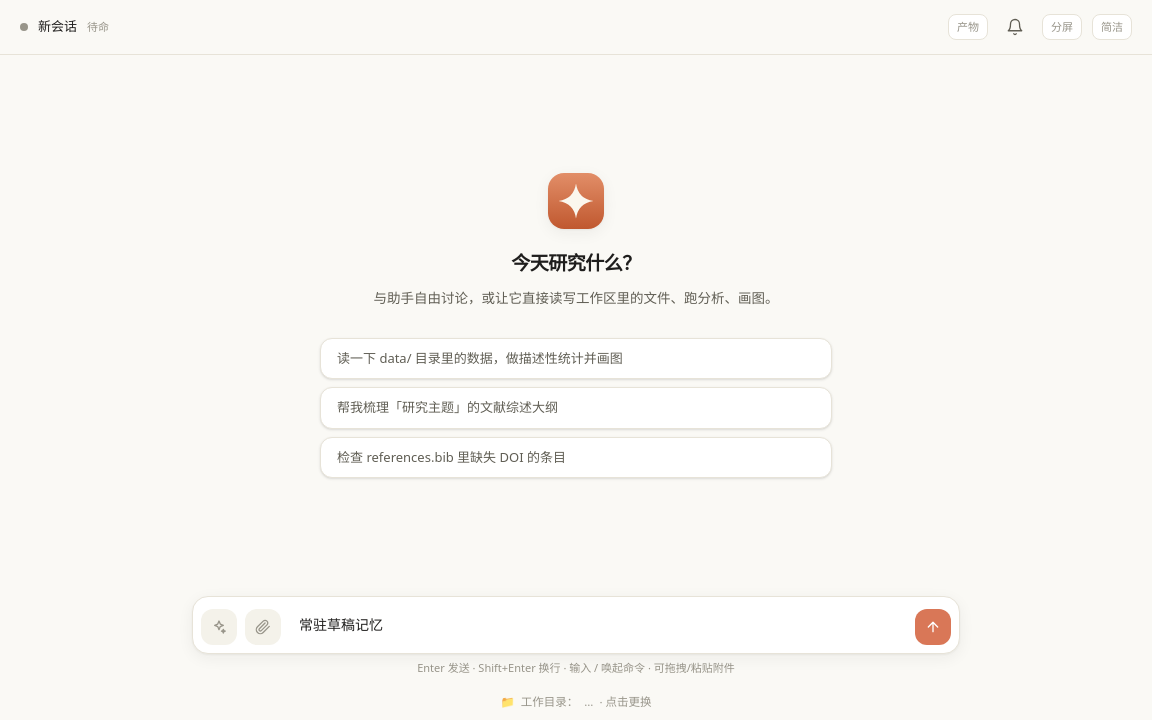
it: U-11 检查器形态切换 › 窄屏（<1280px）：工具条「产物」入口滑出检查器抽屉
Click the button "产物" at coordinates (968, 27), box 948,14 -> 988,40
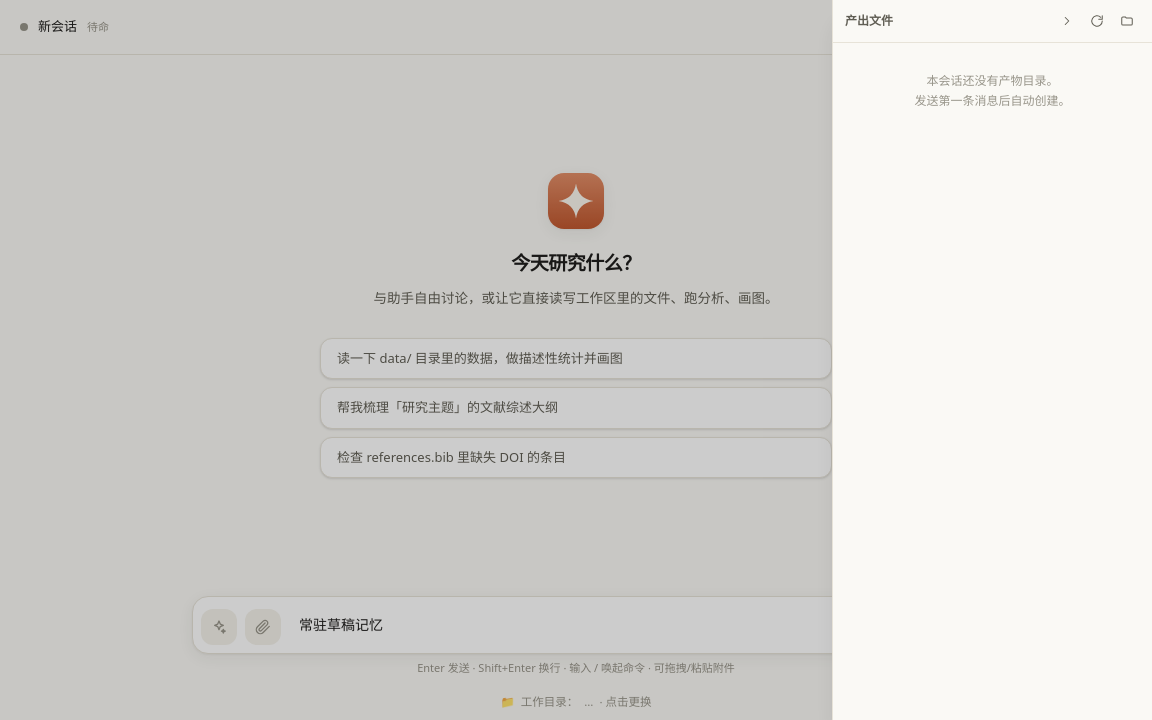
Now the element with test id "inspector-drawer" is shown
Now the element named "检查器" is shown, box 832,0 -> 1151,719
